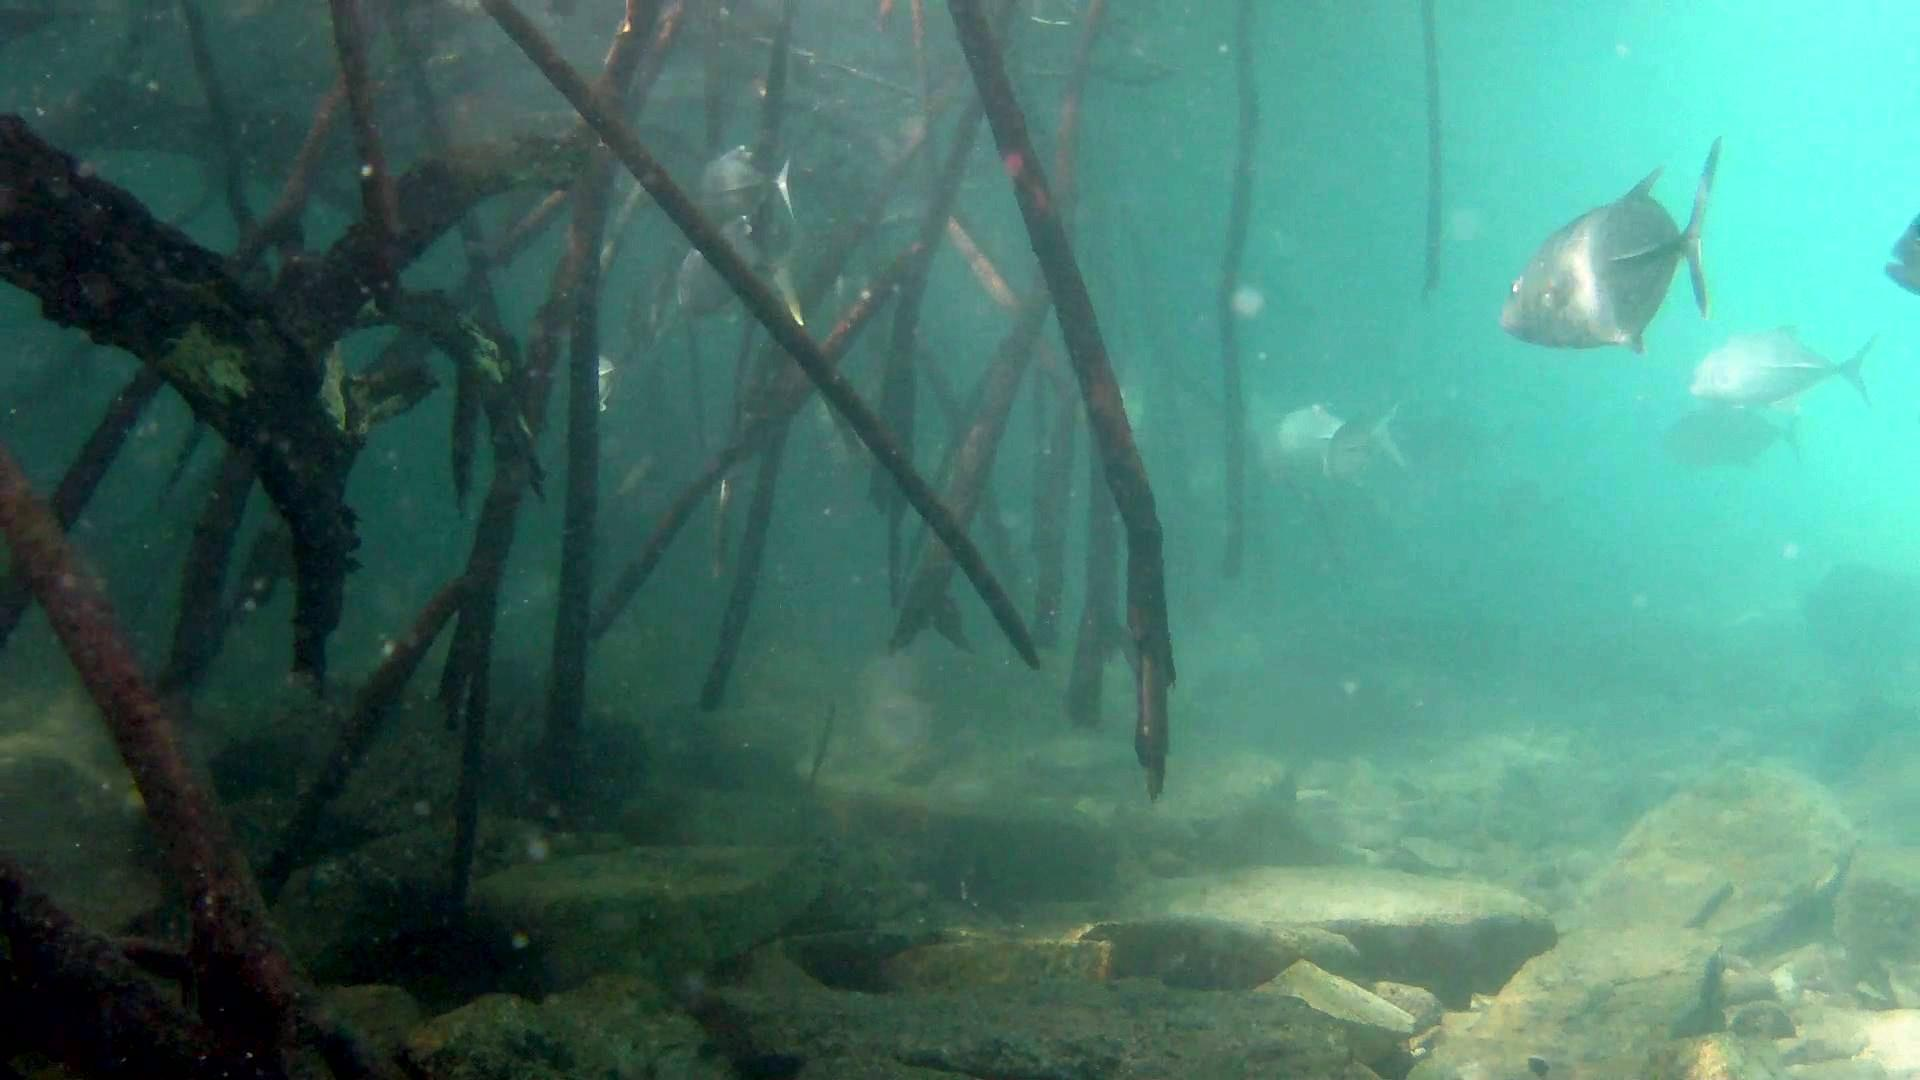caranx: (1487, 128, 1730, 365)
